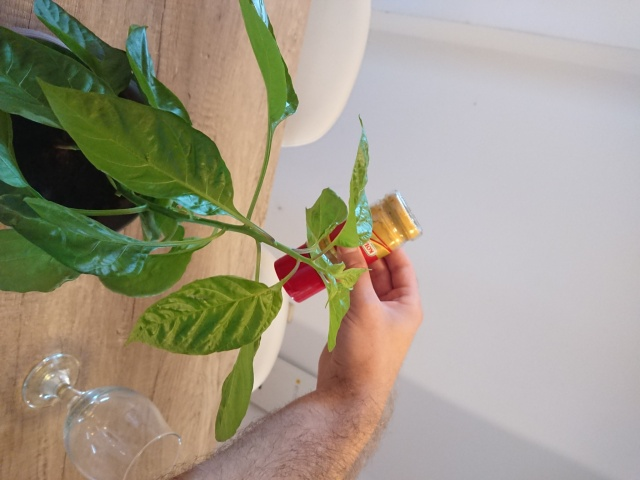Kotanyi Curry Spices Mix 70g: (273, 187, 426, 305)
